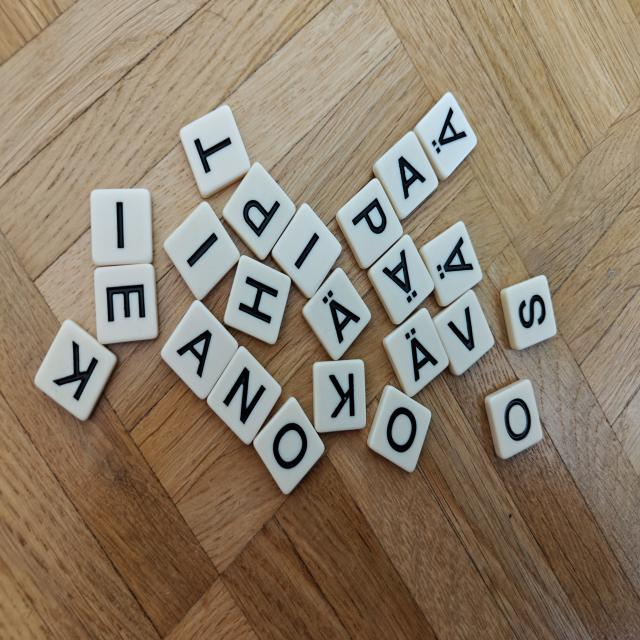a: (161, 300, 238, 399), (373, 132, 438, 220)
a_dot: (303, 268, 371, 360), (368, 235, 434, 324), (383, 308, 449, 396), (413, 92, 477, 180), (419, 221, 482, 306)
e: (94, 263, 158, 344)
h: (224, 256, 291, 344)
i: (164, 202, 239, 300), (272, 204, 341, 298), (90, 189, 153, 266)
k: (34, 319, 117, 420), (313, 359, 366, 432)
n: (207, 346, 281, 444)
o: (253, 397, 324, 494), (368, 385, 431, 472), (484, 380, 543, 459)
p: (223, 162, 296, 260), (336, 178, 402, 268)
s: (501, 275, 556, 350)
t: (180, 106, 250, 197)
v: (433, 290, 494, 375)
